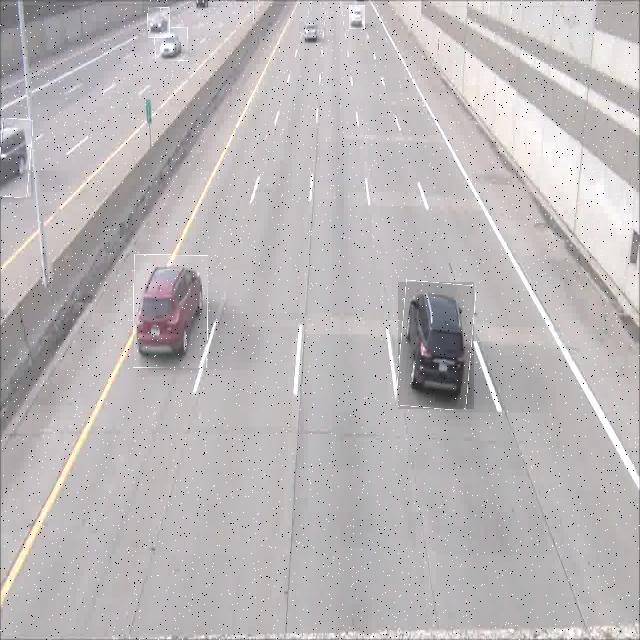Car: (398, 282, 474, 409), (134, 255, 208, 368), (0, 118, 31, 197), (155, 28, 188, 61), (148, 8, 170, 38), (299, 20, 321, 44), (349, 5, 365, 29)
